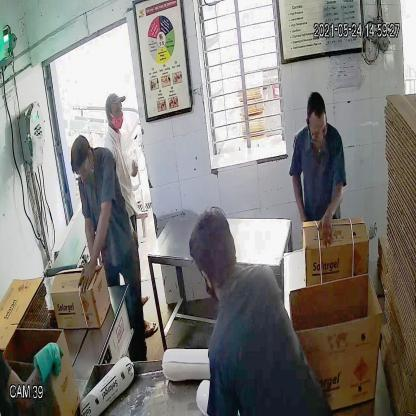goggles: (307, 122, 330, 144)
